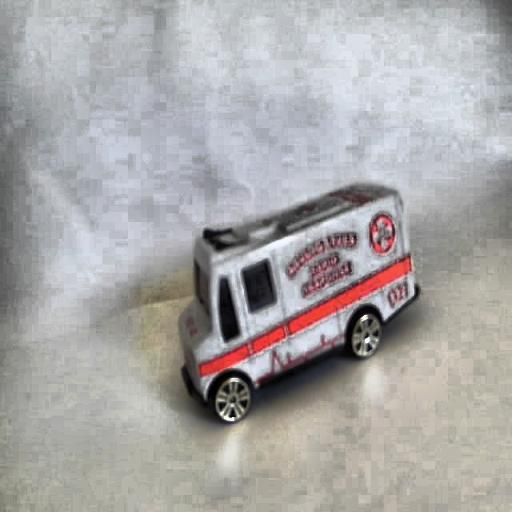ambulance: (178, 180, 419, 424)
